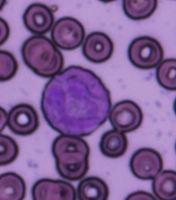E: (40, 66, 110, 136)
